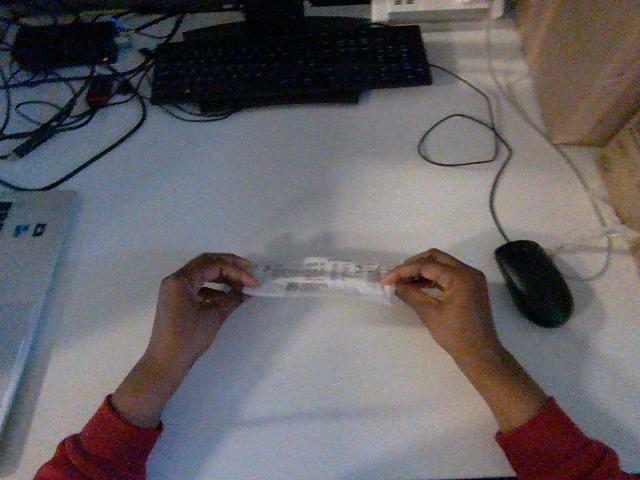syringe: (244, 257, 393, 304)
